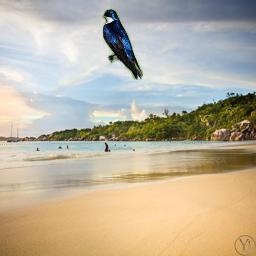Swallow: (102, 9, 143, 80)
